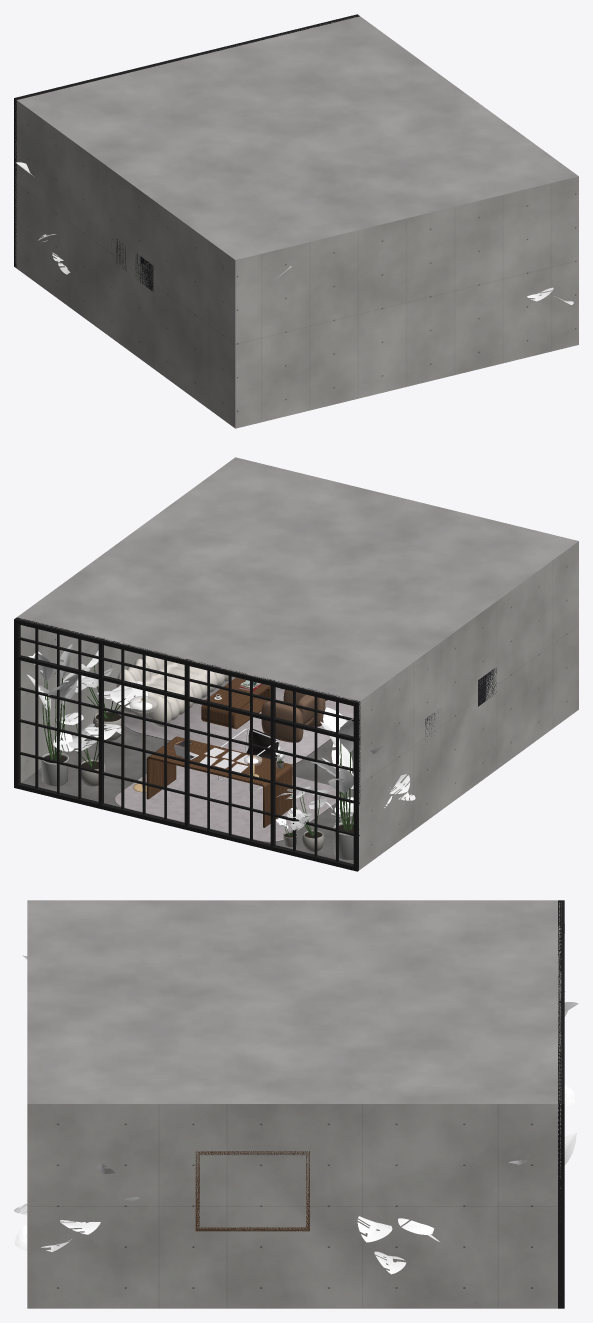
The model's file is office.glb.
3 views of the same model, one above another, from view 1: azimuth 30°, elevation 25°; view 2: azimuth 150°, elevation 25°; view 3: azimuth 270°, elevation 25° (orthographic). The views are drawn at different scales.
Parts seen in each view (by area): view 1: Ceiling, Wall_Back, Wall_Left, Atelier_Window; view 2: Ceiling, Wall_Left, Atelier_Window, Carpet, Wall_Right, Floor, Desk, Rug_Salon, Sofa, PLANT_01_S1, PLANT_04_S2, Armchair_2 (+4 smaller); view 3: Ceiling, Wall_Right, Atelier_Window, AlpsFrame, PLANT_06_M1, PLANT_10_M2.
Boxes of the visible parts, x1,y1,x2,y2 form: Ceiling: (17,16,578,259); Wall_Back: (235,176,578,428); Wall_Left: (15,100,235,428); Atelier_Window: (14,14,359,267); Ceiling: (17,457,578,701); Wall_Left: (359,541,578,870); Atelier_Window: (14,617,360,871); Carpet: (114,765,342,842); Wall_Right: (20,625,142,782); Floor: (21,709,353,863); Desk: (146,736,292,827); Rug_Salon: (124,676,353,764); Sofa: (116,655,231,727); PLANT_01_S1: (310,707,387,859); PLANT_04_S2: (27,644,78,786); Armchair_2: (261,689,325,742); Ceiling: (27,900,561,1103); Wall_Right: (27,1104,561,1308); Atelier_Window: (558,900,564,1308); AlpsFrame: (195,1151,309,1231); PLANT_06_M1: (357,1216,439,1274); PLANT_10_M2: (14,1203,100,1251).
Bounding box in the file's own units: 7.31 × 3 × 7.51.
Materials: 59 (14 with a texture image).
